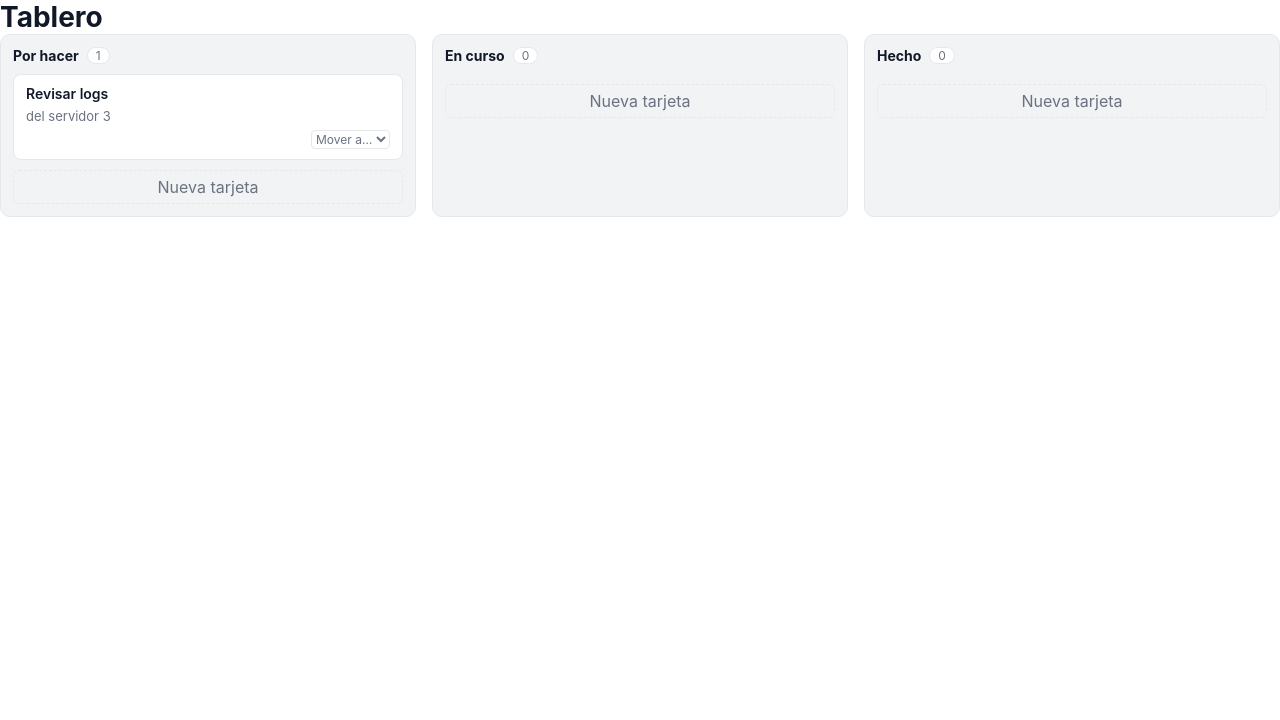
editar y eliminar
Click the text "Revisar logs". click: (67,94)
box: [26, 85, 108, 102]
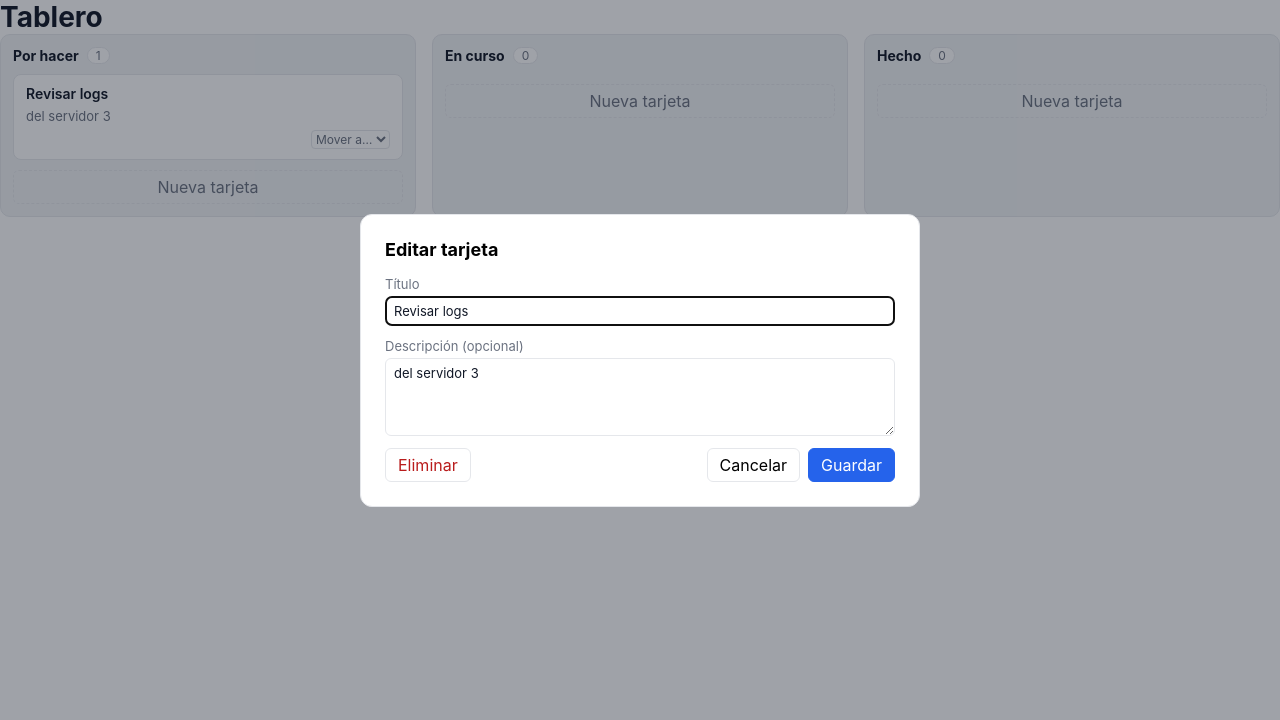
Replace the text in the field labelled "Título" with "Revisar logs viejos". click: (640,310)
box: [385, 296, 895, 326]
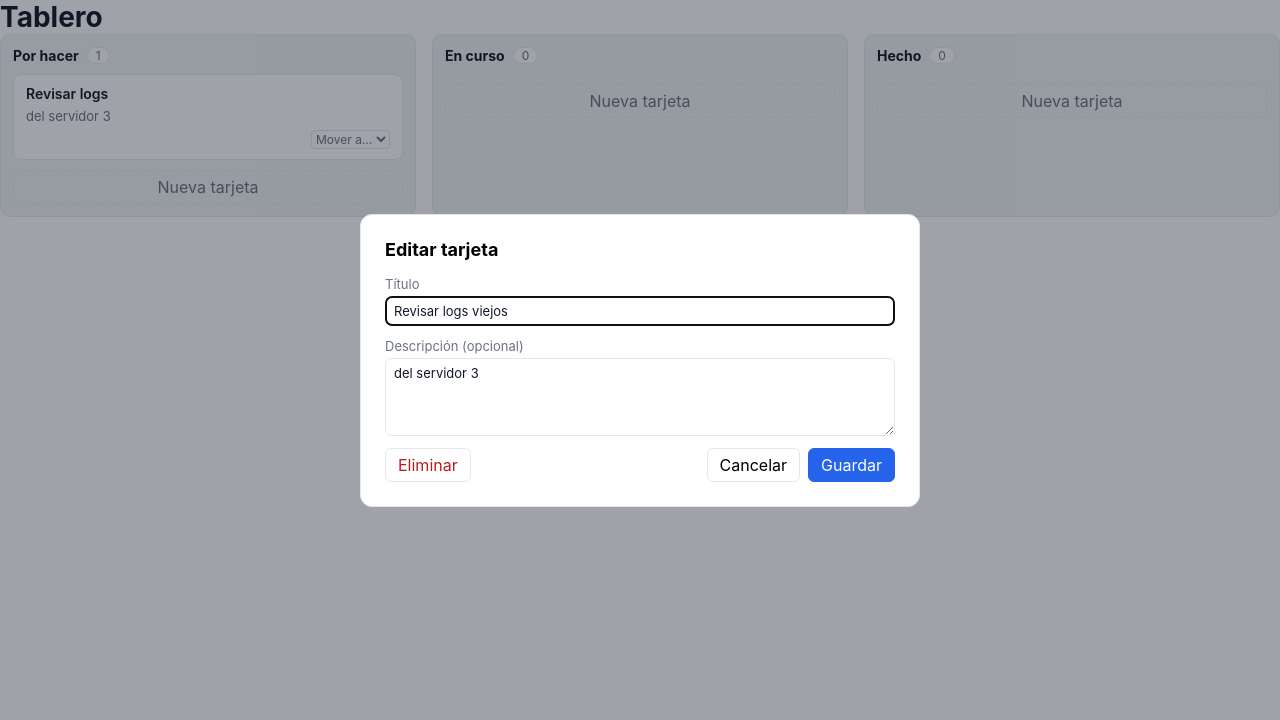
Click the button "Guardar". click: (852,464)
box: [808, 448, 895, 482]
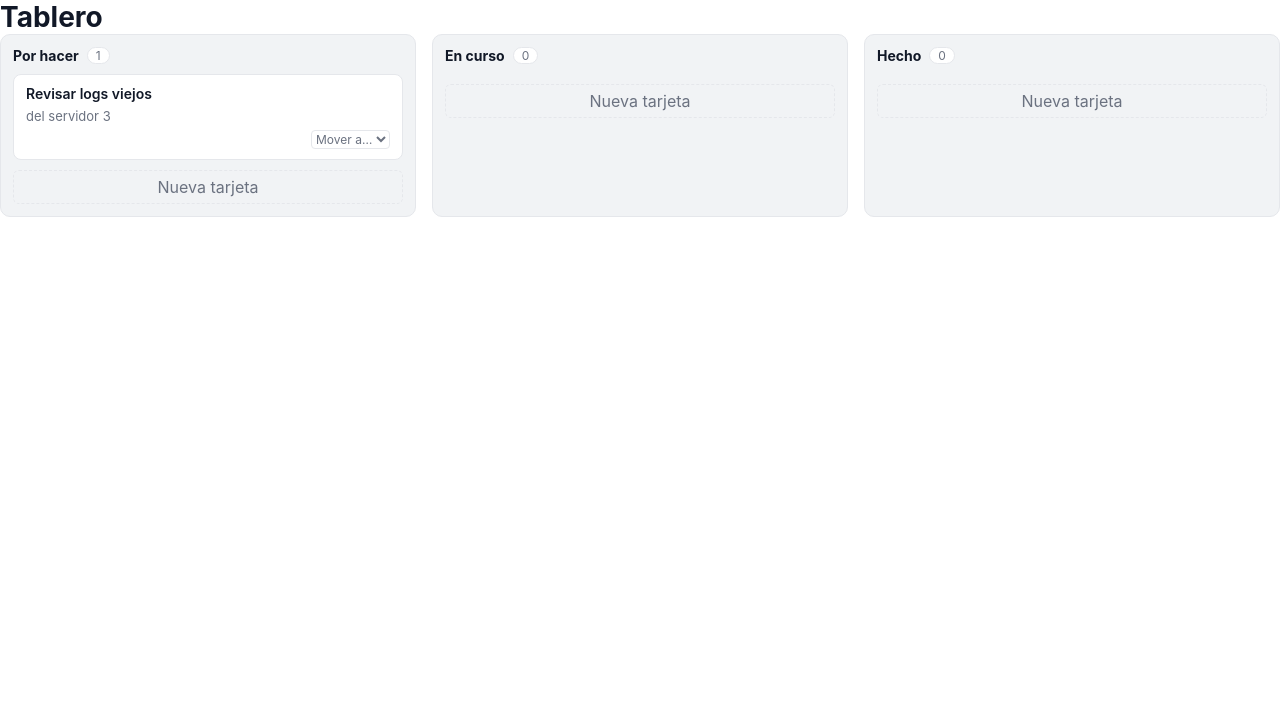
Now the text "Revisar logs viejos" is shown
Click the text "Revisar logs viejos". click: (89,94)
box: [26, 85, 152, 102]
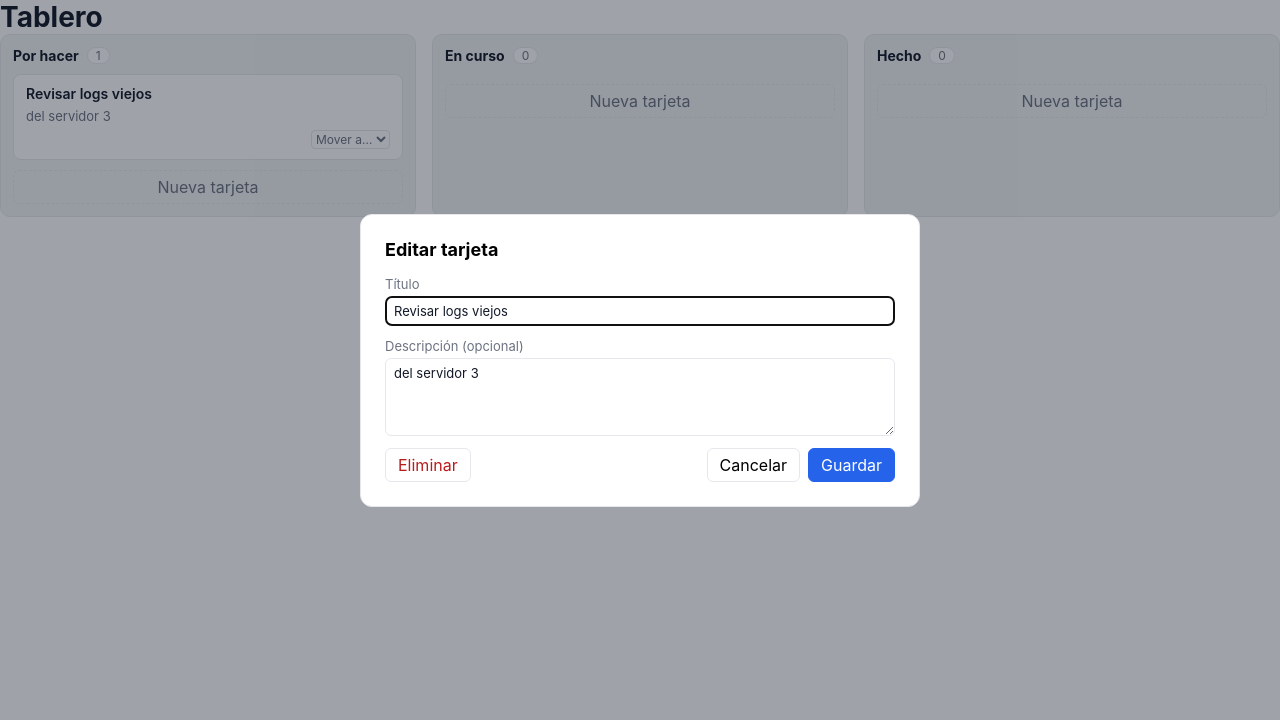
Click the button "Eliminar". click: (428,464)
box: [385, 448, 471, 482]
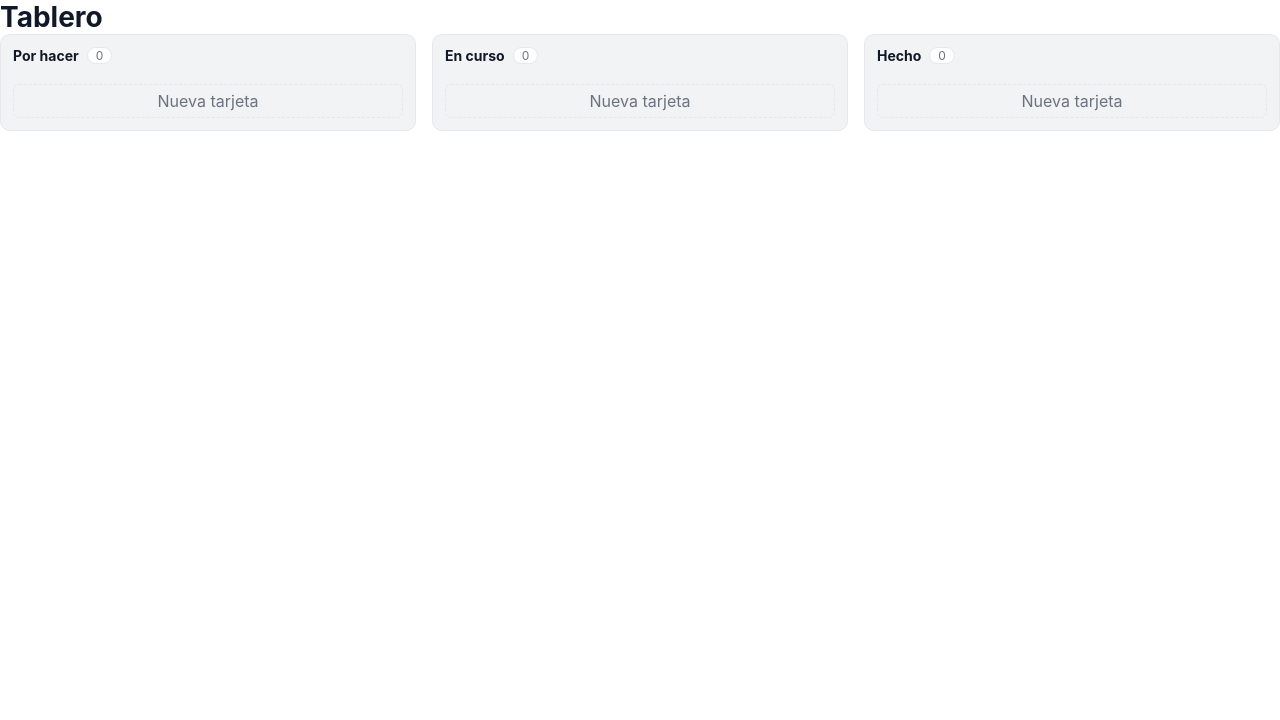
Now the text "Revisar logs viejos" is gone
